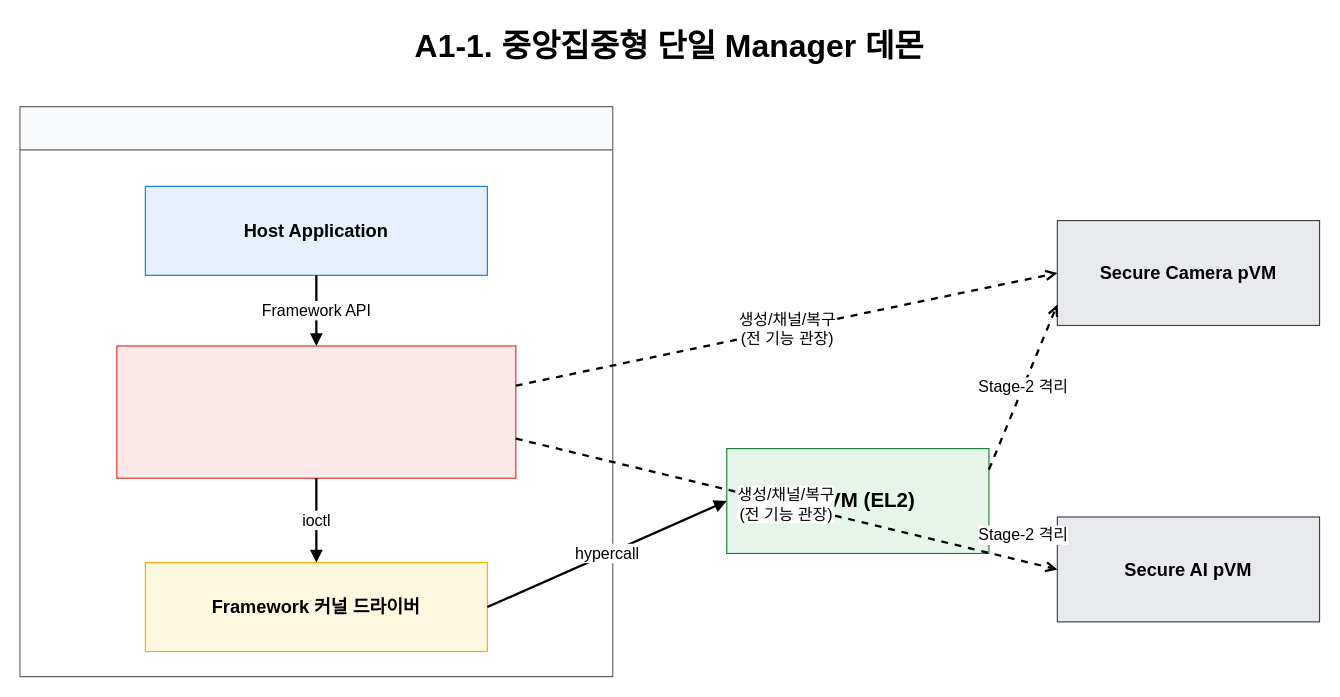
Some shapes in this 1340 by 697 pixel diagram are drawn without their labels. The shapes that lost their labels are listed below. From the top down, each one's box as (x1, y1, x2, y2) in pixels, then its label:
(19, 105, 613, 677): Host (비신뢰, EL0/EL1)
(116, 345, 516, 478): pvm-managerd (API / 정책 PDP+PEP / 생명주기 채널 배선 / 장애 복구 / 자원 원장)
